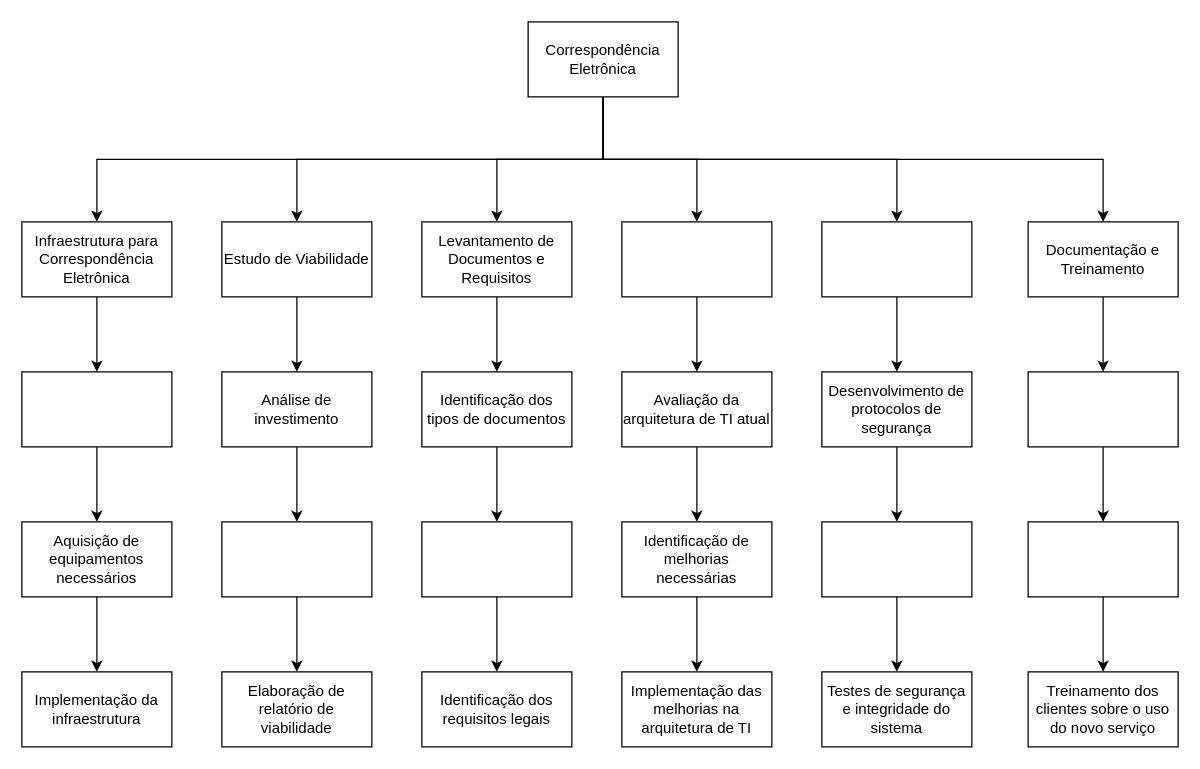
Some shapes in this 1200 by 769 pixel diagram are drawn without their labels. The centre of each missing label's shape, as x and y in pixels:
"Análise de requisitos de infraestrutura" belongs at point (96, 409).
"Arquitetura de TI" belongs at point (696, 259).
"Elaboração de manuais de uso" belongs at point (1102, 409).
"Integração da infraestrutura com sistemas existentes" belongs at point (896, 559).
"Integração e Segurança" belongs at point (896, 259).
"Levantamento dos volumes de documentos" belongs at point (496, 559).
"Projeção de retorno financeiro" belongs at point (296, 559).
"Treinamento da equipe operacional" belongs at point (1102, 559).
